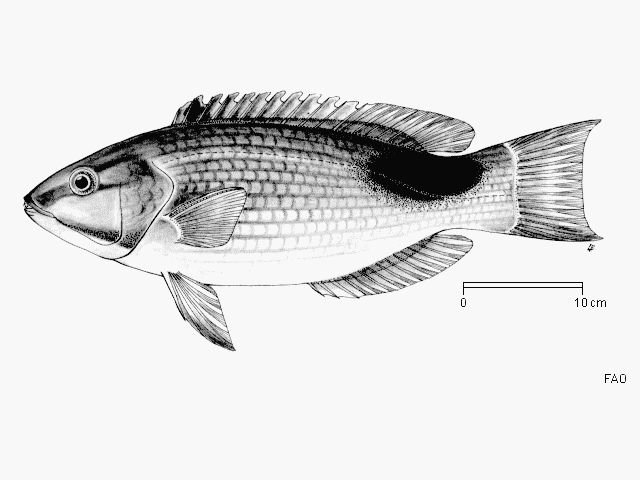fish: (22, 93, 606, 351)
